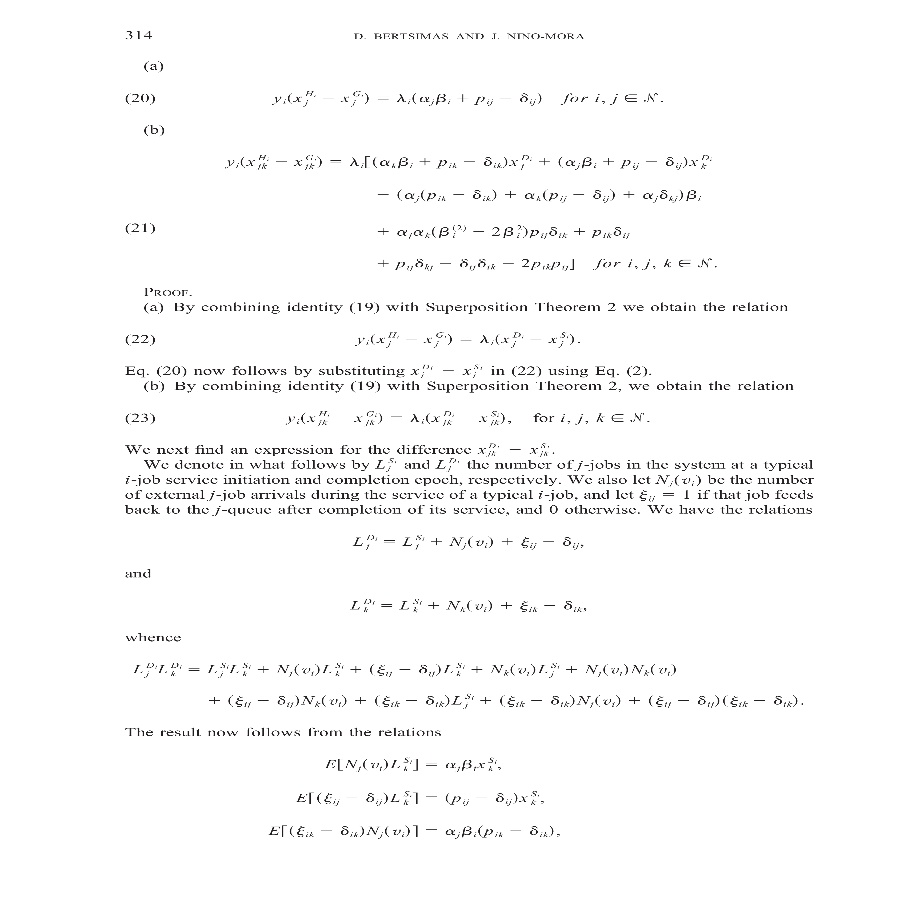eq: (218, 148, 715, 272), (131, 659, 800, 710), (270, 85, 660, 110), (281, 404, 648, 427), (346, 524, 582, 555), (268, 818, 556, 842), (346, 592, 588, 619), (348, 323, 579, 351), (297, 785, 542, 809), (318, 751, 498, 778)
